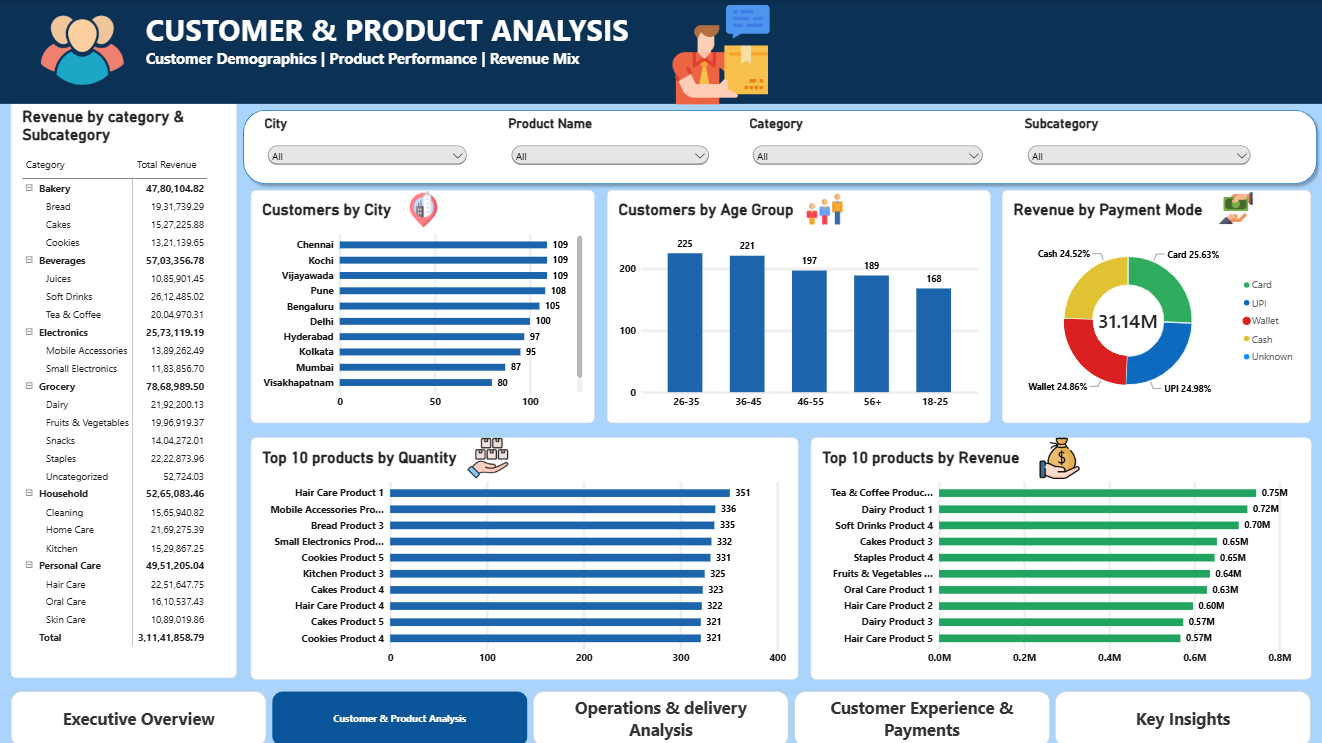

The dashboard page shown, as its layout file describes it:
{"tool":"powerbi","page":{"name":"Customer & Product Analysis","canvas":[1920,1080],"ordinal":1},"visuals":[{"type":"clusteredBarChart","title":"Customers by City","fields":{"Category":["Customers.City"],"Y":["__Measures.Total Customers"]},"box":[367.5,275,497.5,337.5],"z":0},{"type":"clusteredBarChart","title":"Top 10 products by Revenue","fields":{"Category":["Products.ProductName"],"Y":["__Measures.Total Revenue"]},"box":[1177.5,632.5,725,350],"z":1000},{"type":"clusteredBarChart","title":"Top 10 products by Quantity","fields":{"Category":["Products.ProductName"],"Y":["__Measures.Total Quantity"]},"box":[367.5,632.5,792.5,350],"z":2000},{"type":"donutChart","title":"Revenue by Payment Mode","fields":{"Category":["Transactions.PaymentMode"],"Y":["__Measures.Total Revenue"]},"box":[1455,275,447.5,337.5],"z":3000},{"type":"clusteredColumnChart","title":"Customers by Age Group ","fields":{"Category":["Customers.Age group"],"Y":["__Measures.Total Customers"]},"box":[882.5,275,555,337.5],"z":4000},{"type":"pivotTable","title":"Revenue by category & Subcategory","fields":{"Rows":["Products.Category","Products.Subcategory"],"Values":["__Measures.Total Revenue"]},"box":[20,140,327.5,842.5],"z":5000},{"type":"textbox","box":[0,0,1920,150],"z":6000},{"type":"image","box":[30,12.5,185,120],"z":7000},{"type":"textbox","box":[215,12.5,937.5,137.5],"z":8000},{"type":"image","box":[865,0,366.4,155.9],"z":9000},{"type":"image","box":[555,277.5,124,52],"z":10000},{"type":"image","box":[1740,275,105,52.5],"z":11000},{"type":"image","box":[1142.5,277.5,112,52],"z":12000},{"type":"image","box":[1487.5,632.5,102,60],"z":13000},{"type":"image","box":[660,632.5,100,60],"z":14000},{"type":"shape","box":[347.5,150,1572.5,125],"z":15000},{"type":"slicer","title":"City","fields":{"Values":["Customers.City"]},"box":[387.5,167.5,297.5,90],"z":16000},{"type":"slicer","title":"Product Name","fields":{"Values":["Products.ProductName"]},"box":[740,167.5,295,95],"z":17000},{"type":"slicer","title":"Category","fields":{"Values":["Products.Category"]},"box":[1090,167.5,342.5,102.5],"z":18000},{"type":"slicer","title":"Subcategory","fields":{"Values":["Products.Subcategory"]},"box":[1487.5,167.5,332.5,102.5],"z":19000},{"type":"pageNavigator","box":[20,1000,1882.5,80],"z":20000}]}

Visuals, with their boxes in screenshot pixels (x1, y1, x2, y2), scaled from the page's 1920x1080 canvas onto the 1322x743 screenshot:
"Customers by City" clusteredBarChart: l=253, t=189, r=596, b=421
"Top 10 products by Revenue" clusteredBarChart: l=811, t=435, r=1310, b=676
"Top 10 products by Quantity" clusteredBarChart: l=253, t=435, r=799, b=676
"Revenue by Payment Mode" donutChart: l=1002, t=189, r=1310, b=421
"Customers by Age Group " clusteredColumnChart: l=608, t=189, r=990, b=421
"Revenue by category & Subcategory" pivotTable: l=14, t=96, r=239, b=676
textbox: l=0, t=0, r=1321, b=103
image: l=21, t=9, r=148, b=91
textbox: l=148, t=9, r=794, b=103
image: l=596, t=0, r=848, b=107
image: l=382, t=191, r=468, b=227
image: l=1198, t=189, r=1270, b=225
image: l=787, t=191, r=864, b=227
image: l=1024, t=435, r=1094, b=476
image: l=454, t=435, r=523, b=476
shape: l=239, t=103, r=1321, b=189
"City" slicer: l=267, t=115, r=472, b=177
"Product Name" slicer: l=510, t=115, r=713, b=181
"Category" slicer: l=751, t=115, r=986, b=186
"Subcategory" slicer: l=1024, t=115, r=1253, b=186
pageNavigator: l=14, t=688, r=1310, b=742
